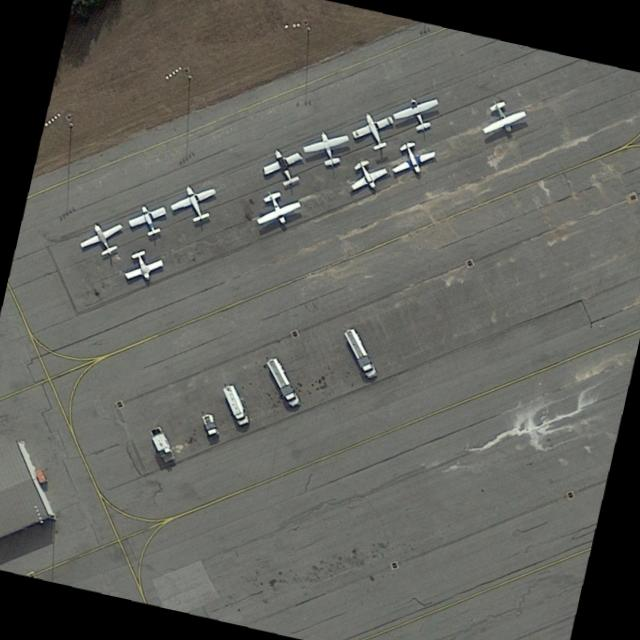large-vehicle: (263, 355, 300, 408), (342, 326, 377, 377), (147, 423, 177, 463), (221, 383, 248, 424)
plane: (162, 173, 224, 231), (71, 213, 132, 265), (253, 139, 312, 191), (344, 104, 402, 155), (470, 91, 529, 138), (248, 184, 305, 232), (382, 134, 441, 180), (389, 90, 444, 139), (298, 123, 354, 171), (120, 196, 174, 243), (115, 242, 169, 287), (341, 150, 391, 196)
small-vehicle: (200, 411, 220, 436)
